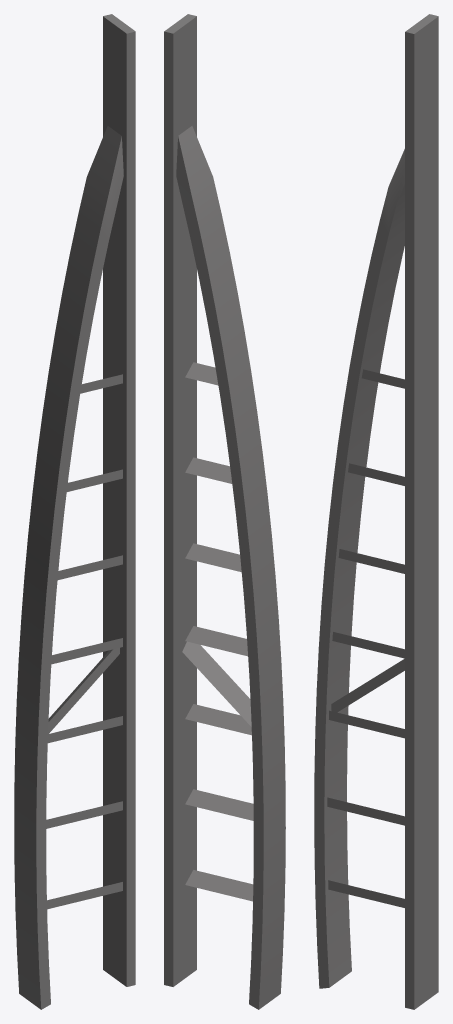
Rendered from 00_03_outside_antenna_C.DAE.
3 views of the same model, side by side, from view 1: azimuth 30°, elevation 25°; view 2: azimuth 150°, elevation 25°; view 3: azimuth 330°, elevation 25° (orthographic). The views are drawn at different scales.
Parts seen in each view (by area): view 1: antenna_C; view 2: antenna_C; view 3: antenna_C.
Part boxes in pixels (left/top/right/bottom): antenna_C: left=14, top=14, right=135, bottom=1009; antenna_C: left=164, top=14, right=285, bottom=1009; antenna_C: left=314, top=14, right=438, bottom=1009.
Size of the model in its own units: 0.7928 by 7.34 by 0.3322.
